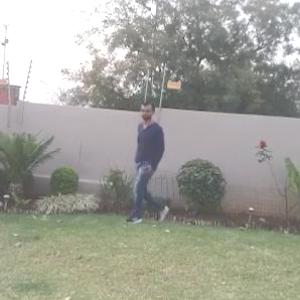follow: (129, 96, 176, 228)
